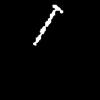half_double_crochet: (33, 5, 62, 44)
